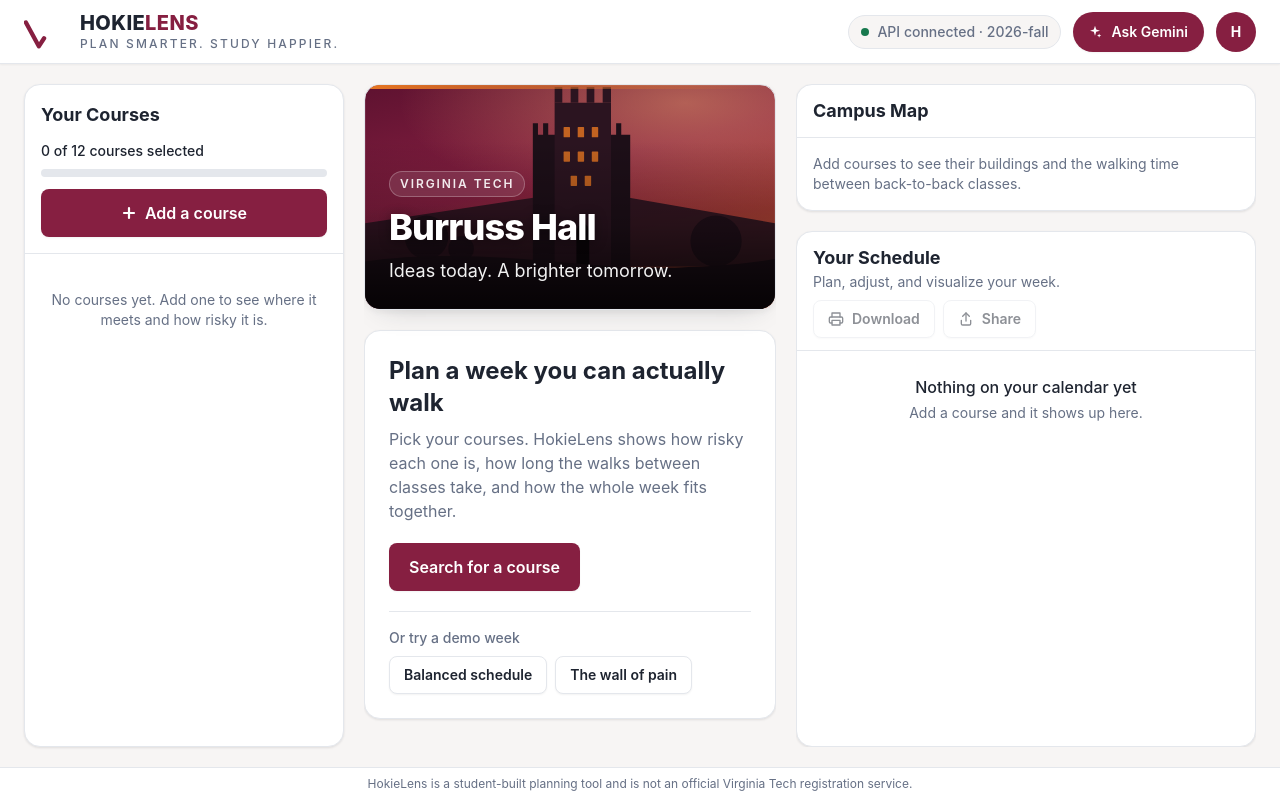
PlannerPage (desktop workspace) › welcomes an empty schedule with a demo week that fills the cart, map, and calendar
This screenshot has width=1280, height=800.
Check: the heading "Plan a week you can actually walk" is shown, box [389,355,751,419]
Check: the text "0 of 12 courses selected" is shown, box [41,142,204,159]
Step 1. Click the button with test id "demo-easy" → {"x": 468, "y": 675}, box [389,656,547,694]
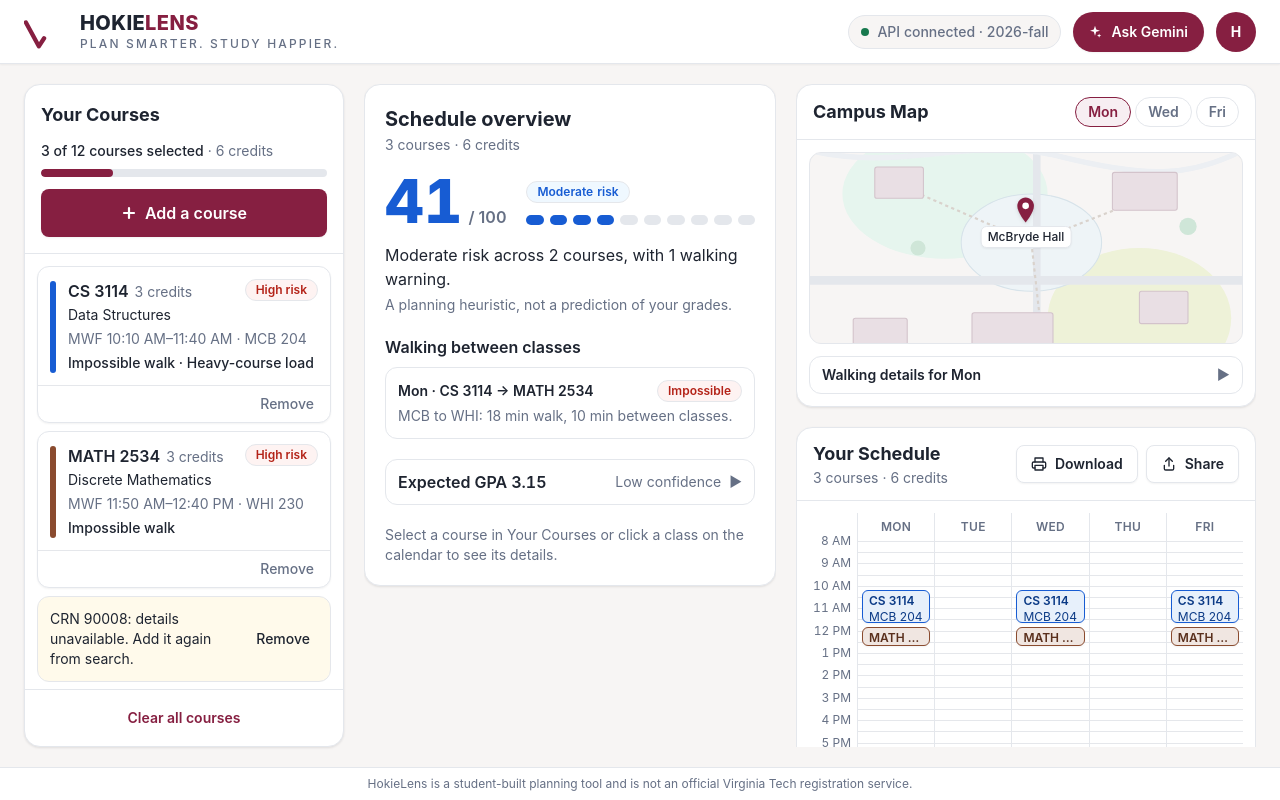
Check: the text "3 of 12 courses selected" is shown, box [41,142,273,159]
Check: the element "Schedule overview" is shown, box [364,84,776,586]
